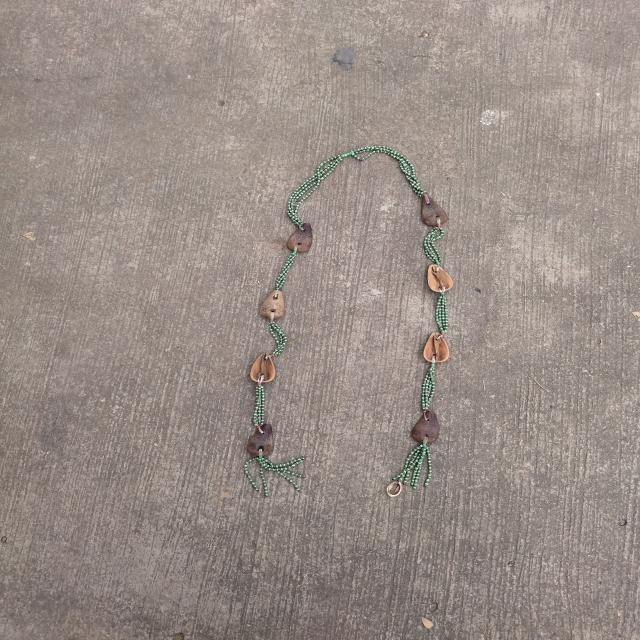facedown: (404, 404, 446, 452), (250, 284, 296, 326), (242, 418, 284, 464), (416, 189, 456, 232), (280, 218, 321, 259)
faceup: (420, 260, 463, 302), (243, 347, 282, 390), (418, 327, 456, 370)
